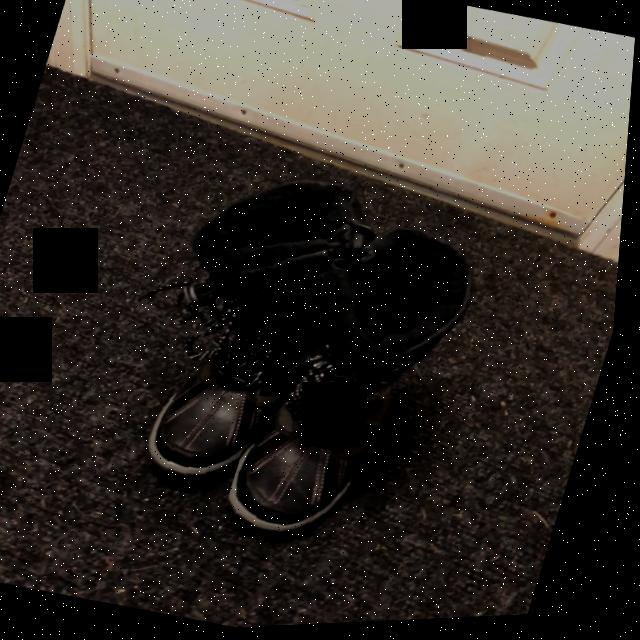shoe: (234, 359, 401, 547), (153, 349, 313, 488)
